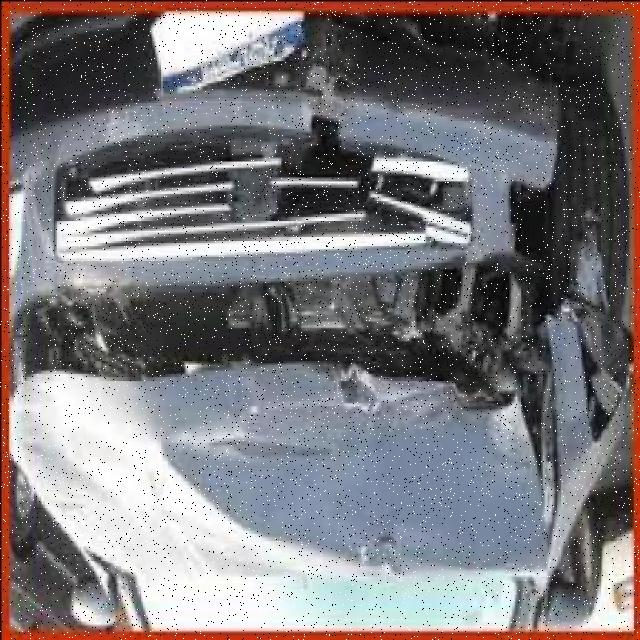damage: (7, 20, 631, 578)
